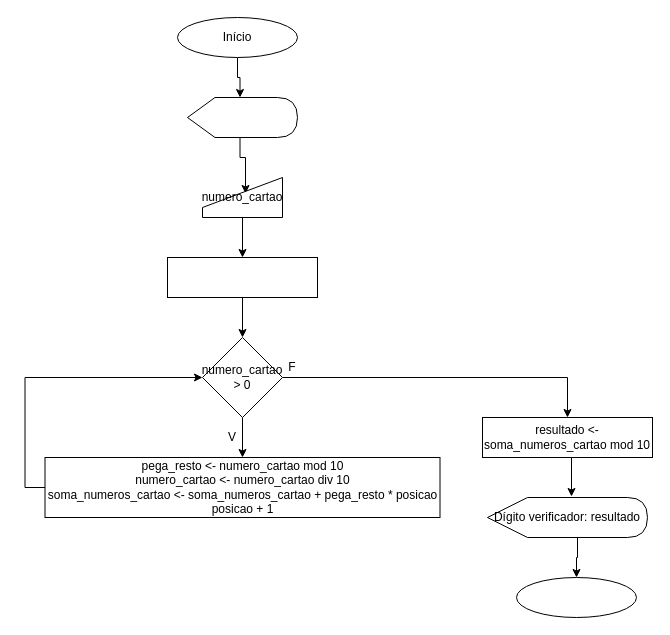
Some shapes in this 670 by 635 pixel diagram are drawn without their labels. Each missing label, with the centre of its shape:
Fim: (x=576, y=597)
Qual é o número do cartão?: (x=242, y=117)
soma_numeros_cartao <- 0 posicao <- 1: (x=242, y=277)
